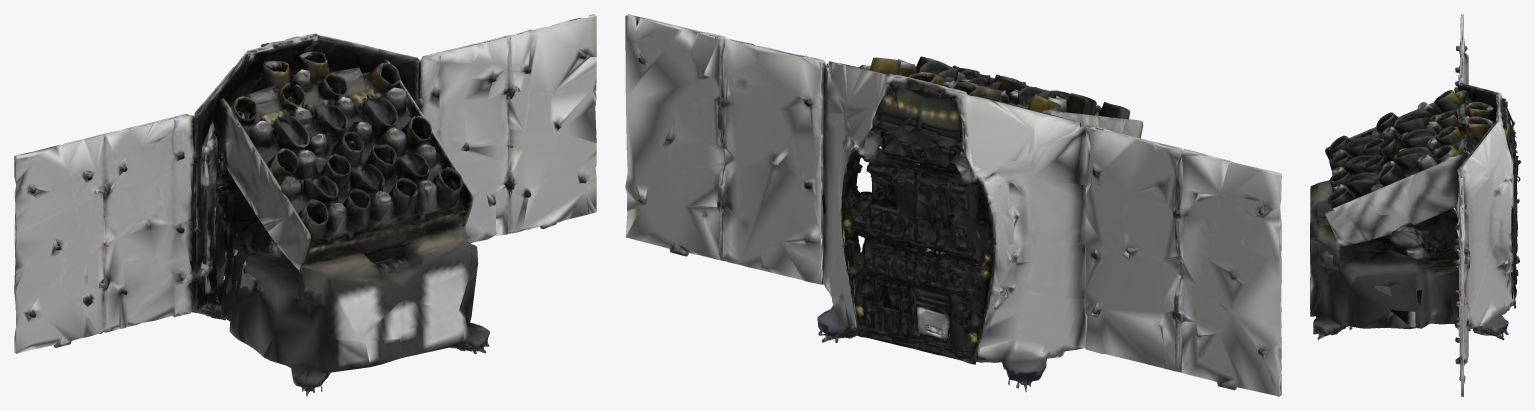
File: plato-low.glb
The picture shows the model from 3 angles, left to right: view 1: azimuth 30°, elevation 25°; view 2: azimuth 150°, elevation 25°; view 3: azimuth 270°, elevation 25°; orthographic projection. The views are drawn at different scales.
Size of the model in its own units: 1.9 by 0.7855 by 0.7497.
1 material, 1 textured.
